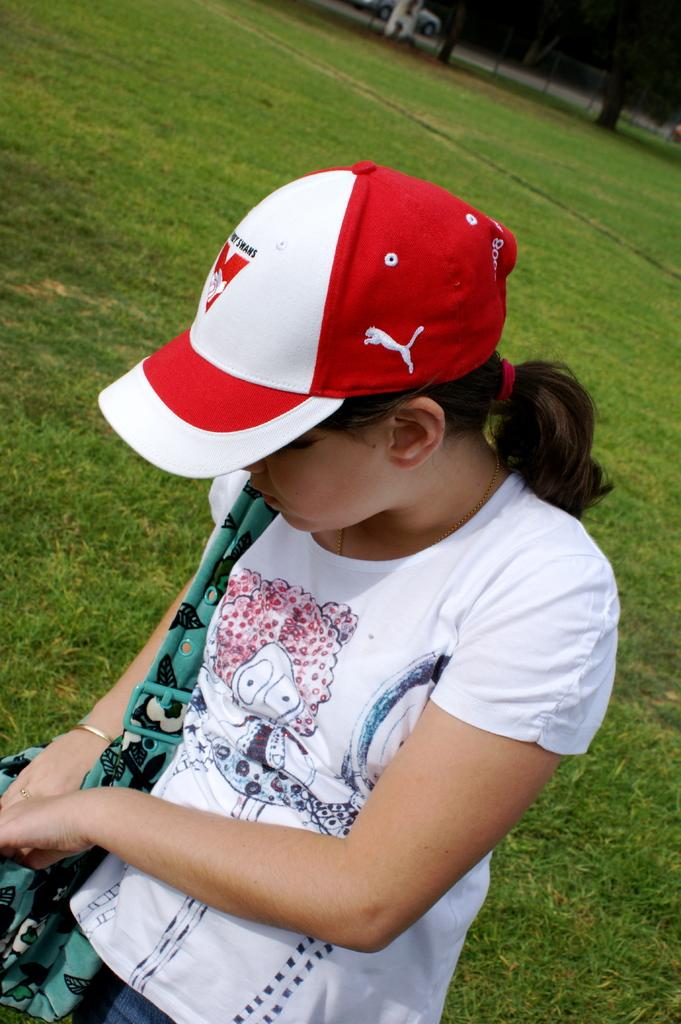Hat: (96, 156, 518, 480)
